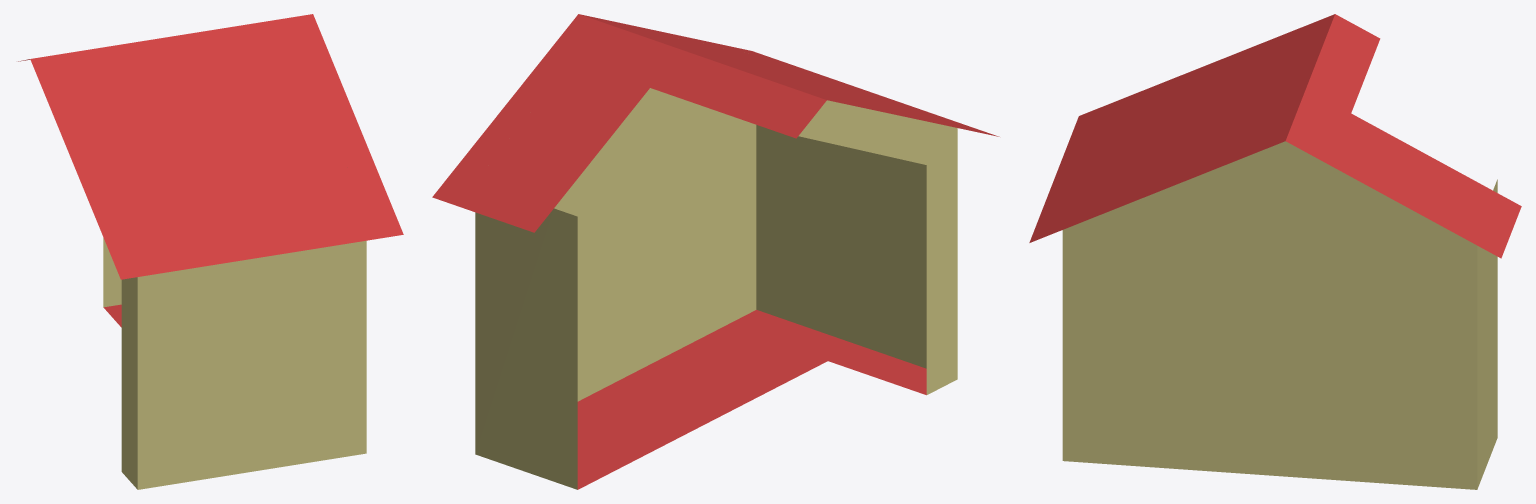
3 renders of one model, left to right at view 1: azimuth 30°, elevation 25°; view 2: azimuth 150°, elevation 25°; view 3: azimuth 270°, elevation 25°, orthographic. The views are drawn at different scales.
Size of the model in its own units: 12.98 by 16.87 by 13.15.
